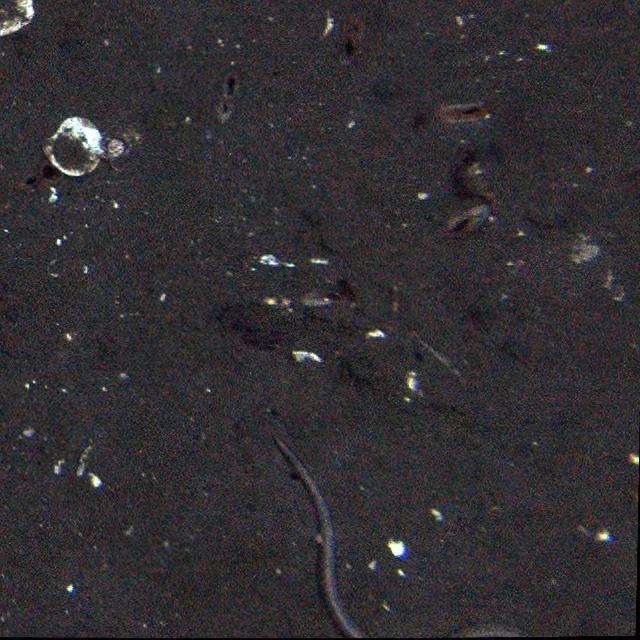eel: (273, 436, 383, 638)
